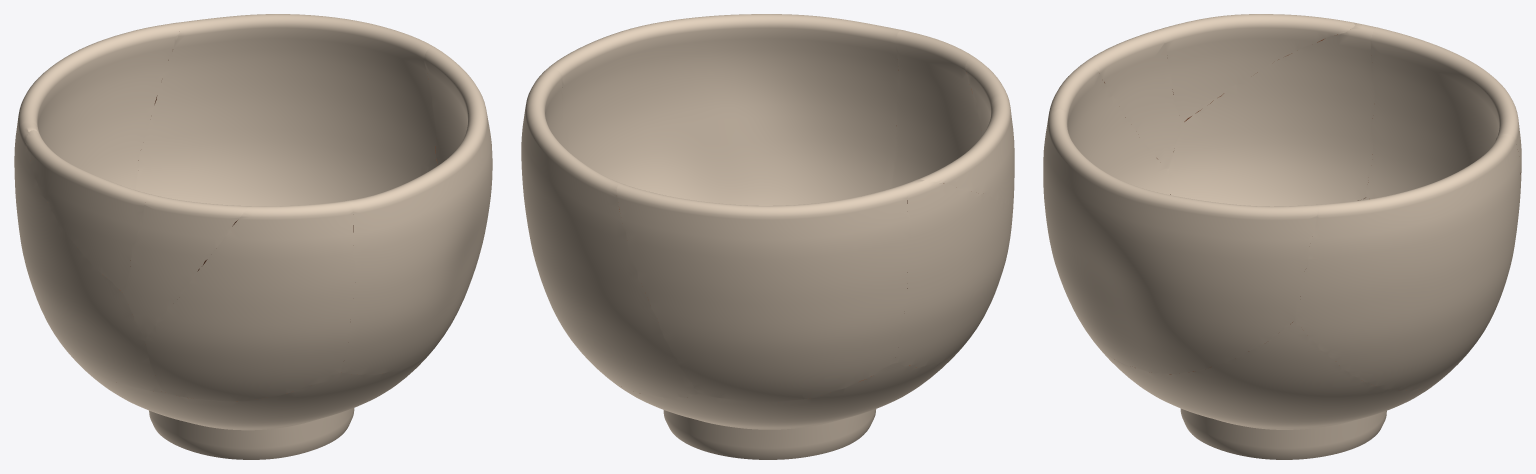
Rendered from Z5_drop.glb.
The picture shows the model from 3 angles, left to right: view 1: azimuth 30°, elevation 25°; view 2: azimuth 150°, elevation 25°; view 3: azimuth 270°, elevation 25°; orthographic projection.
Parts seen in each view (by area): view 1: shard_07, shard_03, shard_06, shard_05, shard_00, shard_04, shard_01, shard_02; view 2: shard_06, shard_05, shard_07, shard_04, shard_00, shard_03, shard_02, shard_01; view 3: shard_06, shard_07, shard_04, shard_00, shard_05, shard_02, shard_03, shard_01.
Part boxes in pixels (x1,y1,x2,y2): shard_07: [136, 14, 436, 206]; shard_03: [144, 200, 355, 401]; shard_06: [341, 47, 492, 374]; shard_05: [14, 23, 179, 227]; shard_00: [58, 157, 445, 459]; shard_04: [15, 121, 161, 391]; shard_01: [124, 194, 248, 338]; shard_02: [26, 130, 151, 293]; shard_06: [547, 14, 900, 205]; shard_05: [616, 183, 909, 402]; shard_07: [521, 68, 699, 398]; shard_04: [895, 179, 1012, 366]; shard_00: [605, 348, 961, 459]; shard_03: [891, 30, 982, 188]; shard_02: [917, 99, 1014, 208]; shard_01: [965, 58, 1009, 135]; shard_06: [1043, 109, 1317, 374]; shard_07: [1294, 134, 1520, 390]; shard_04: [1168, 22, 1376, 206]; shard_00: [1094, 197, 1442, 459]; shard_05: [1367, 27, 1521, 199]; shard_02: [1156, 14, 1354, 124]; shard_03: [1045, 62, 1170, 194]; shard_01: [1085, 30, 1180, 169].
Size of the model in its own units: 0.1228 by 0.0871 by 0.122.
